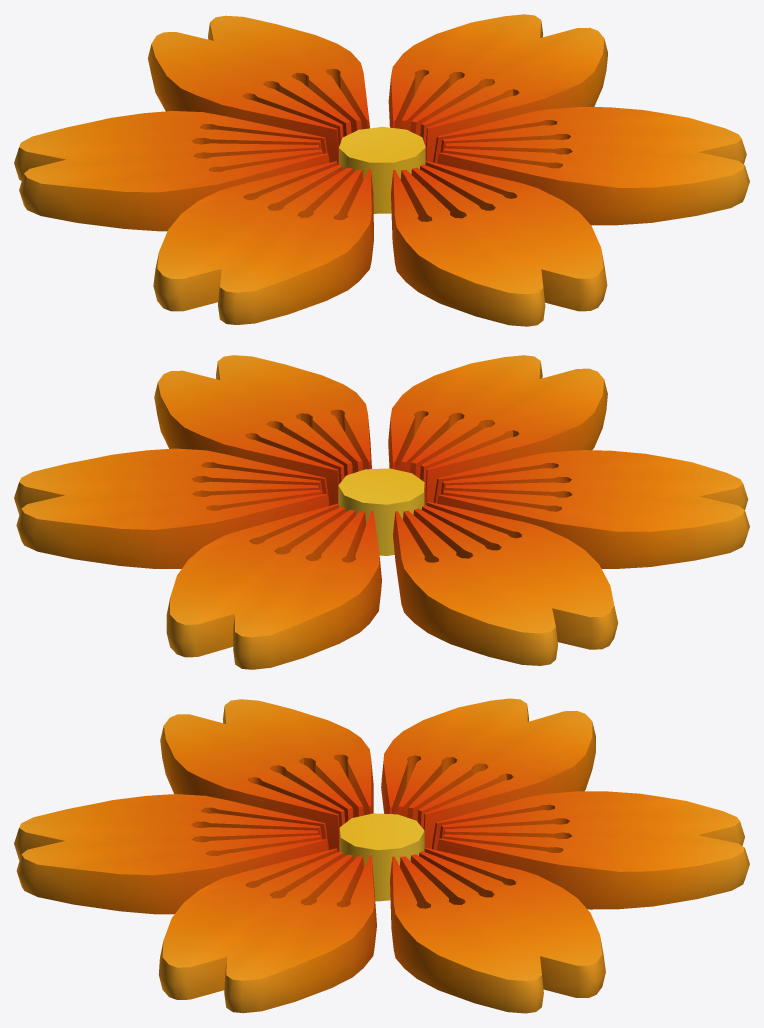
File: Orange.fbx
The picture shows the model from 3 angles, top to bottom: view 1: azimuth 30°, elevation 25°; view 2: azimuth 150°, elevation 25°; view 3: azimuth 270°, elevation 25°; orthographic projection.
Visible parts, largest first — view 1: Cylinder004.015; view 2: Cylinder004.015; view 3: Cylinder004.015.
Boxes of the visible parts, x1=… form: Cylinder004.015: x1=14, y1=14, x2=749, y2=326; Cylinder004.015: x1=14, y1=355, x2=749, y2=669; Cylinder004.015: x1=14, y1=698, x2=749, y2=1013.
Bounding box in the file's own units: 29.68 × 2.47 × 32.19.
